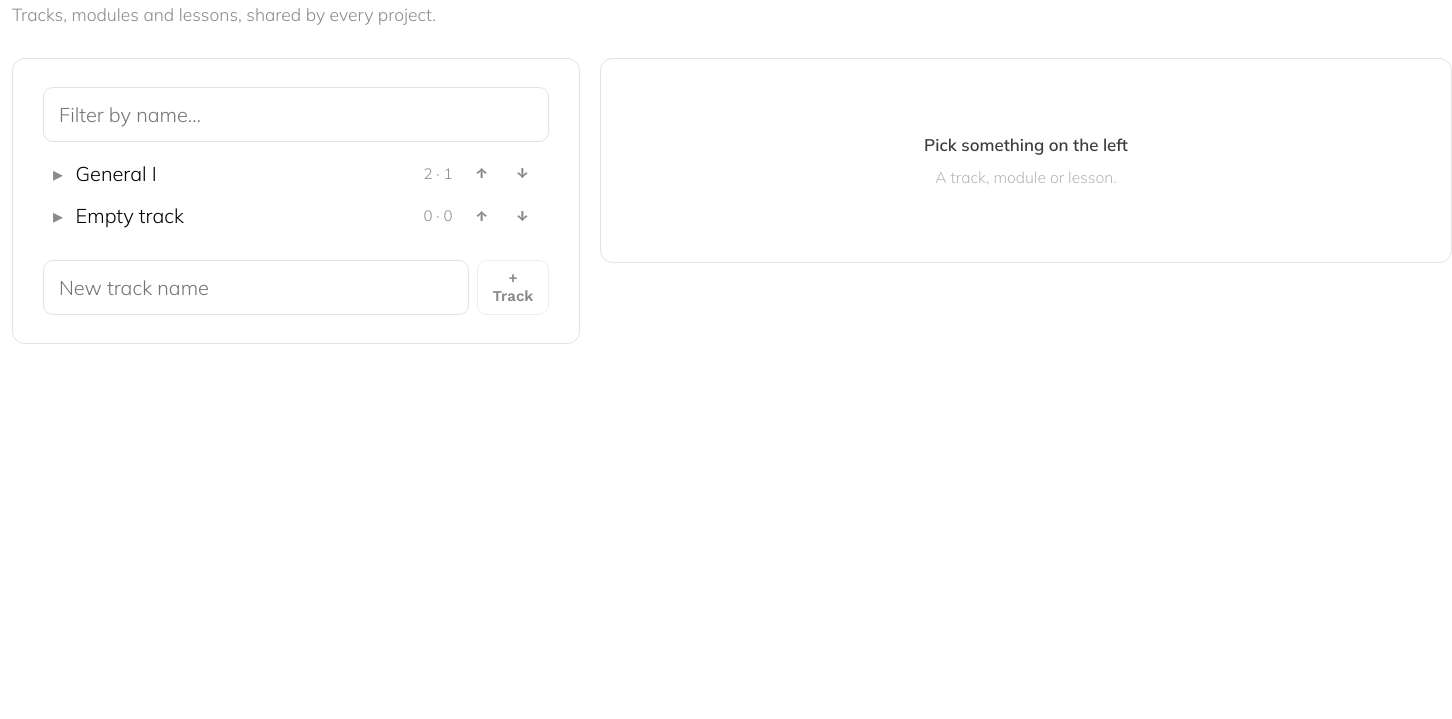
Test: ContentPage › shows a refused prerequisite save in the panel
Click the button "General I".
click(116, 173)  # box 76,158 -> 413,189
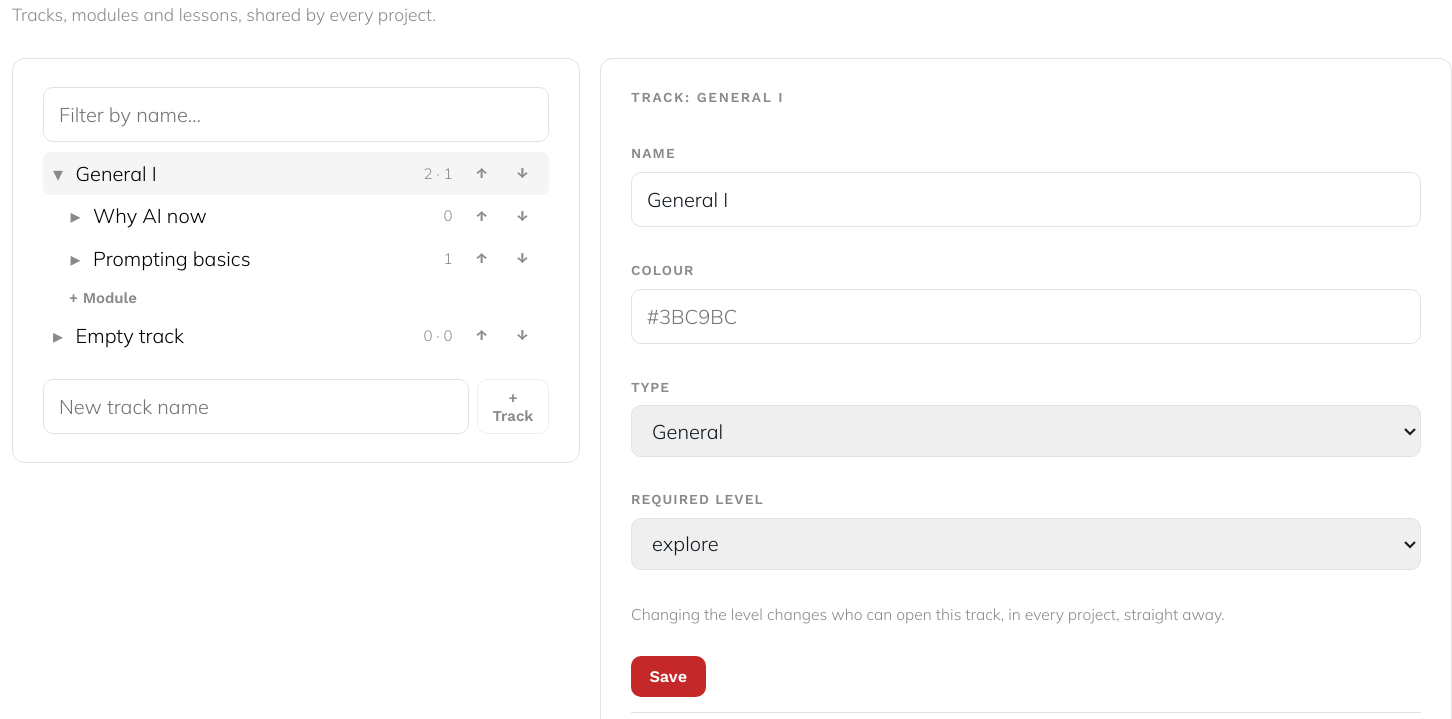
Click the button "Why AI now".
click(150, 216)  # box 93,200 -> 433,231
(page scrolled)
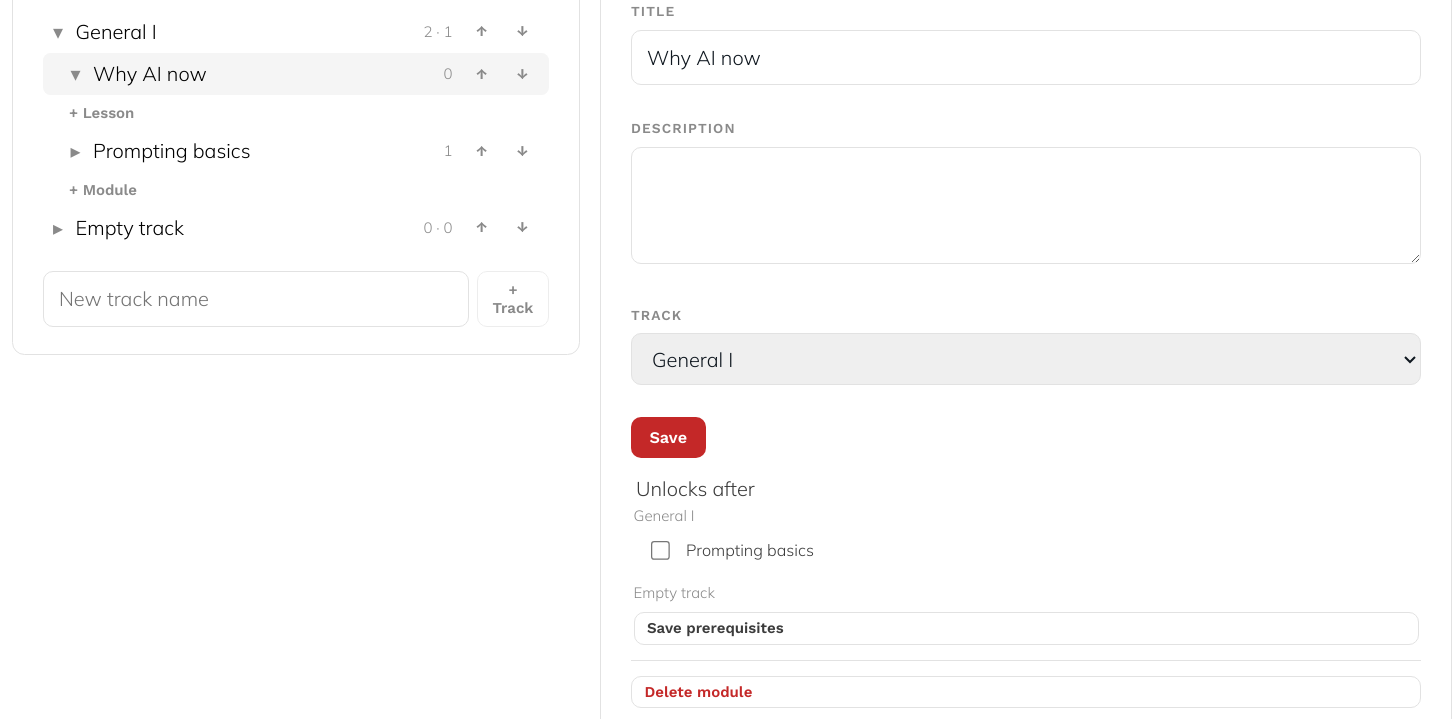
Click the button "Save prerequisites".
click(715, 628)  # box 634,612 -> 1418,645
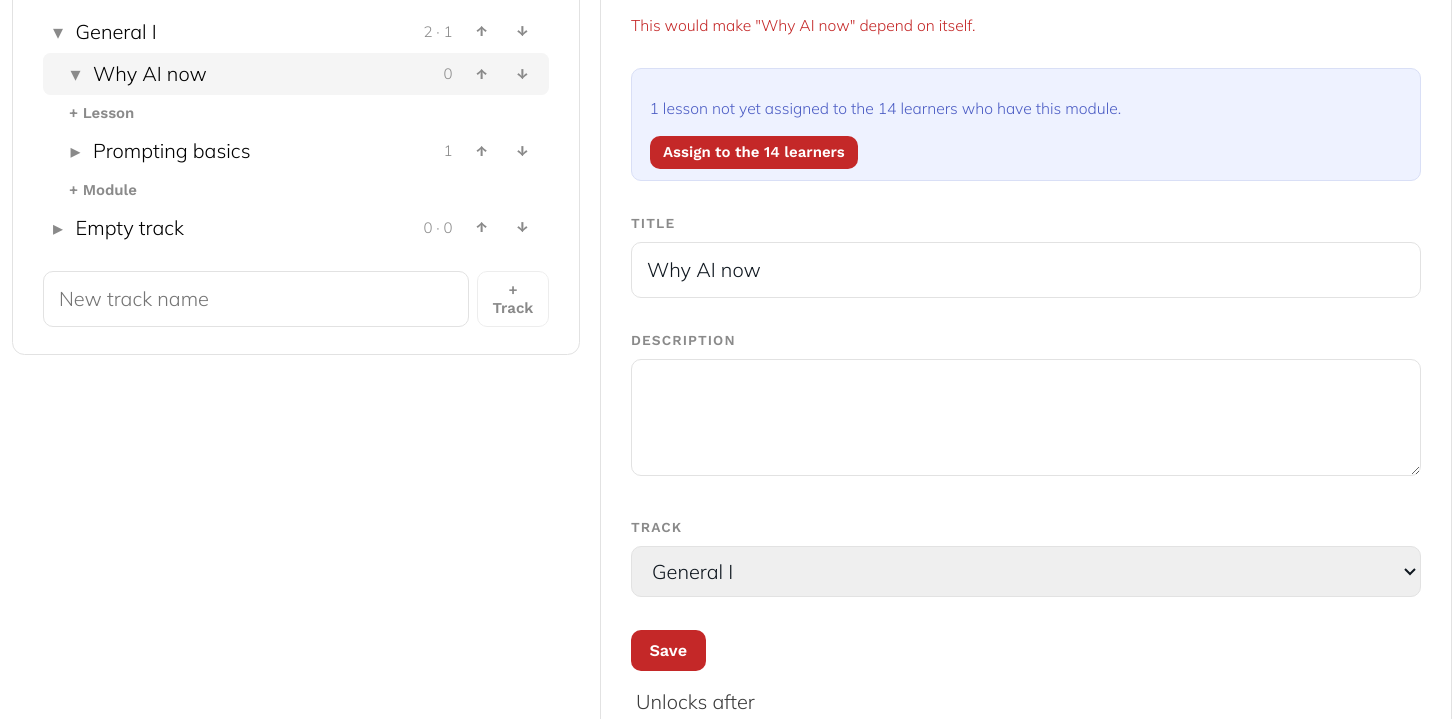
Result: the message reads "This would make \"Why AI now\" depend on itself." at 631,15 -> 976,35
